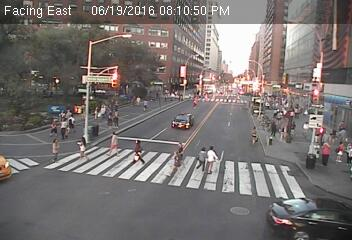neg: (46, 60, 69, 91), (23, 66, 43, 93), (165, 44, 180, 63), (70, 58, 83, 76), (152, 56, 165, 72), (201, 36, 213, 52), (216, 60, 226, 73), (95, 71, 103, 82)
pos: (125, 135, 151, 171), (103, 127, 125, 157), (245, 124, 264, 149), (47, 137, 66, 162), (45, 120, 59, 139), (140, 97, 153, 114)
